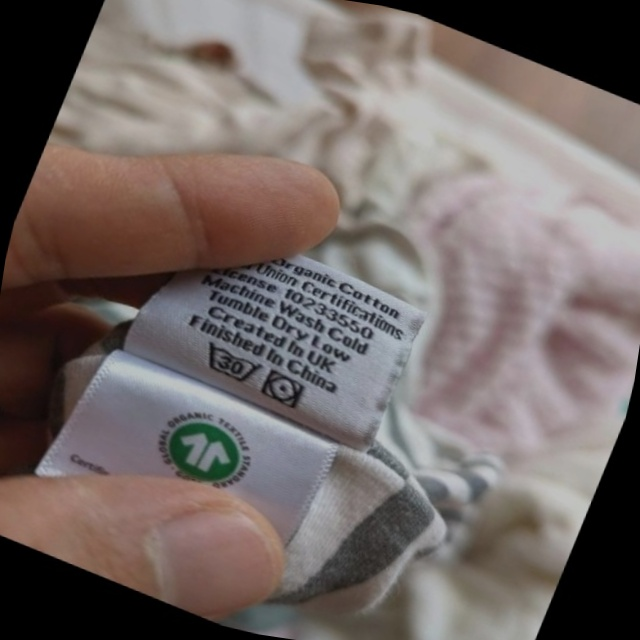30C: (191, 334, 270, 393)
tumble_dry_low: (254, 363, 312, 416)
